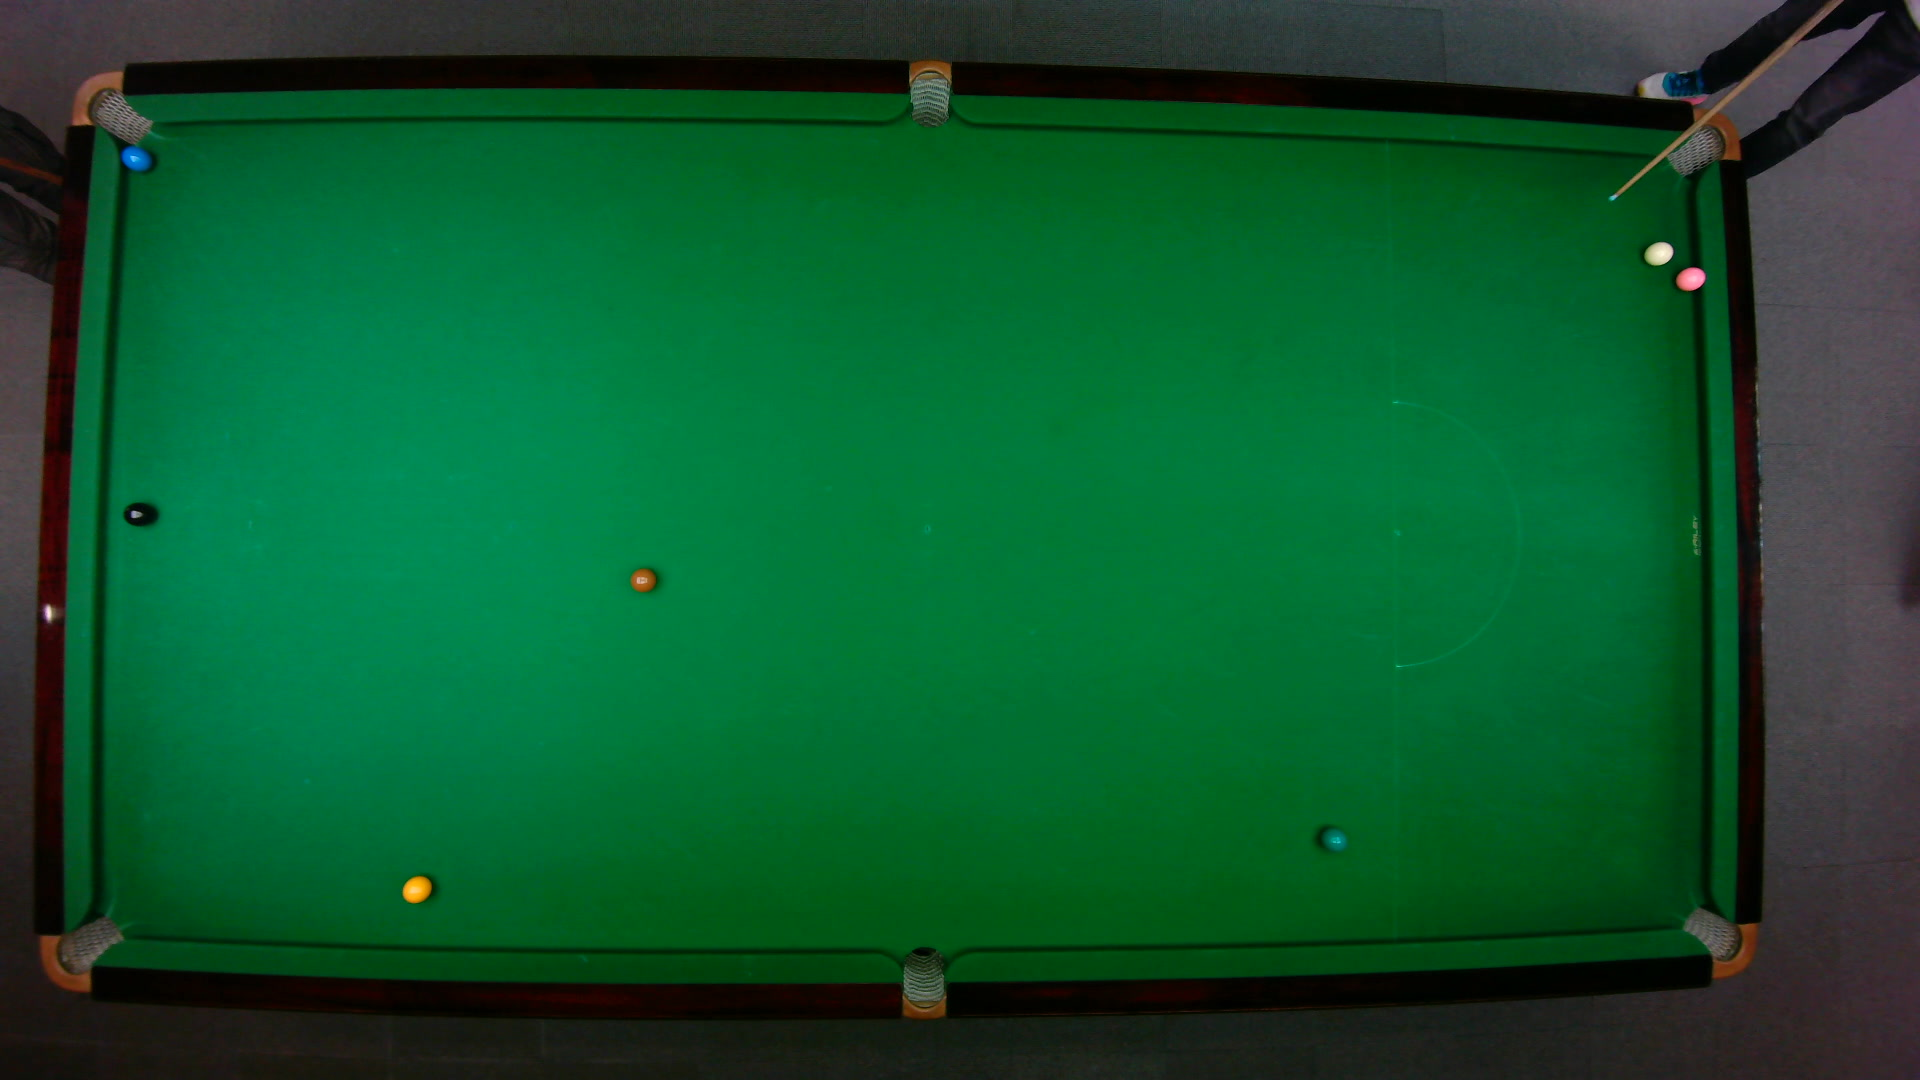bag: (1639, 109, 1743, 179), (36, 913, 125, 992), (69, 69, 153, 146), (1680, 905, 1756, 978), (901, 944, 944, 1021), (909, 57, 949, 128)
black: (121, 500, 154, 526)
blue: (117, 144, 152, 171)
brown: (628, 566, 657, 593)
cue: (1605, 0, 1850, 204)
green: (1317, 825, 1348, 852)
pink: (1673, 264, 1706, 291)
white: (1640, 239, 1673, 266)
yellow: (401, 873, 433, 905)
zone: (1390, 400, 1520, 667)
